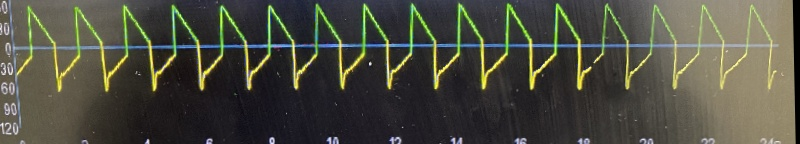peepi: (14, 0, 787, 96)
